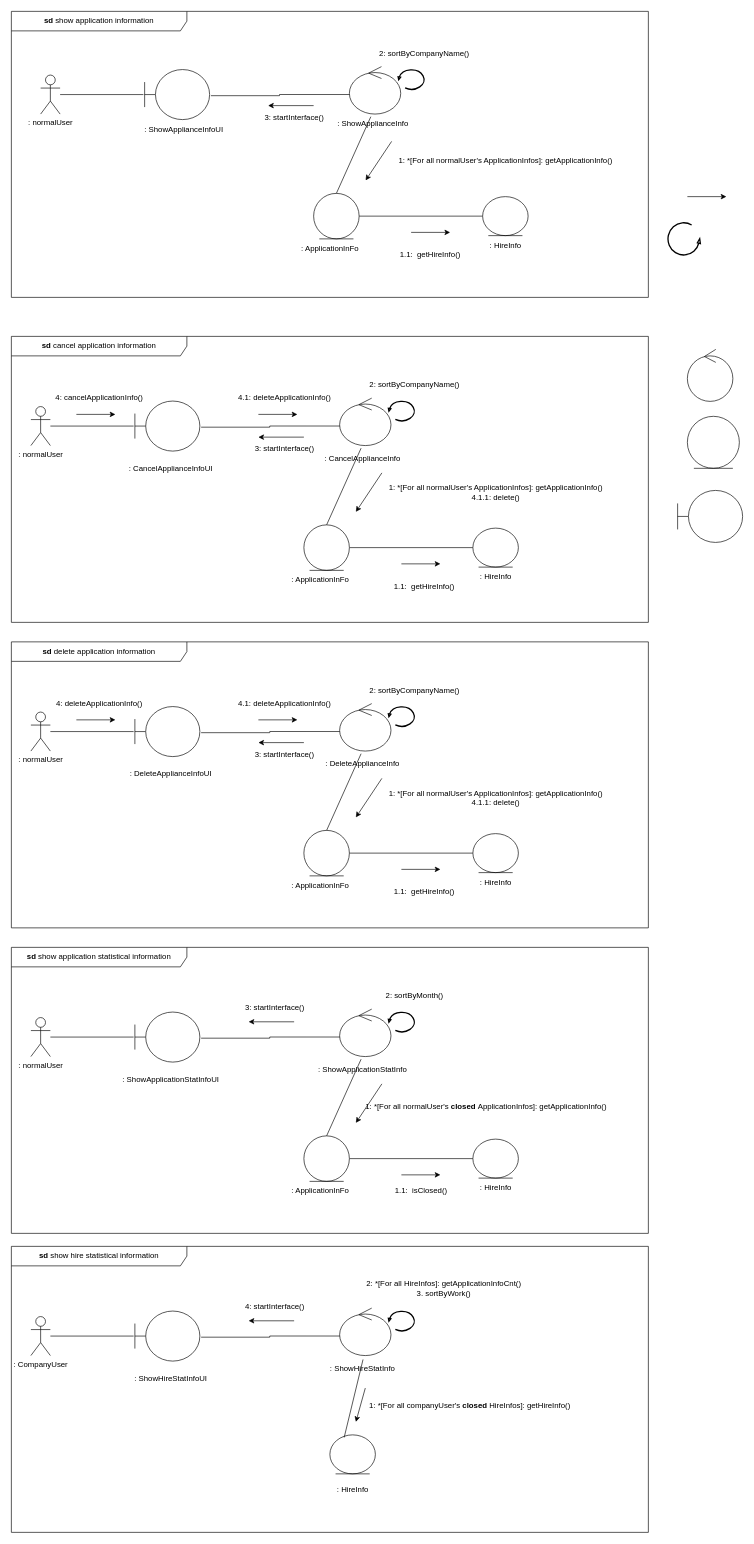
Some shapes in this 754 by 1544 pixel diagram are drawn without their labels. The shapes that lost their labels are listed below. From the top down, each one's centre as x and y in pixels, then its label:
pixel 710 375: Control Object
pixel 713 442: Entity Object
pixel 710 516: Boundary Object
